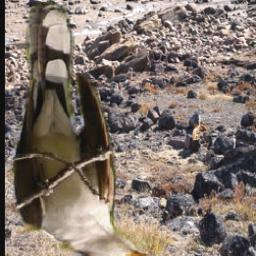Cuckoo: (10, 3, 159, 256)
Sparrow: (192, 119, 210, 140)
